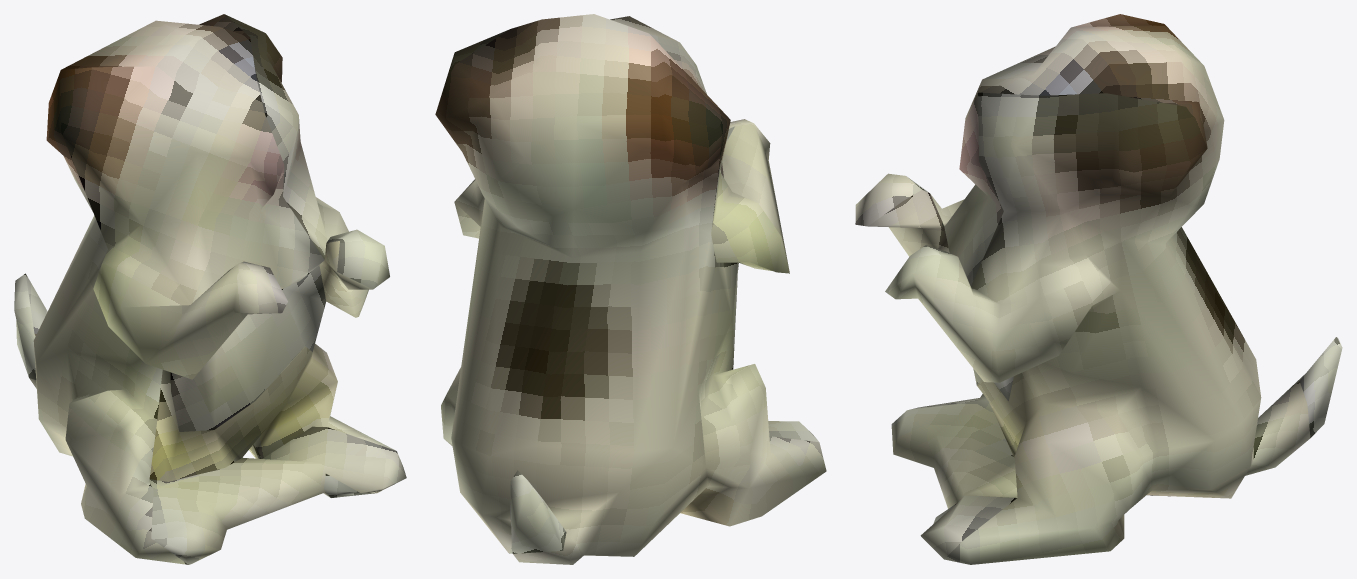
Rendered from Toysmith_Windem_Up_Flippin_Animals_Dog-low.glb.
3 views of the same model, side by side, from view 1: azimuth 30°, elevation 25°; view 2: azimuth 150°, elevation 25°; view 3: azimuth 270°, elevation 25° (orthographic). The views are drawn at different scales.
Visible parts, largest first — view 1: Toysmith_Windem_Up_Flippin_Animals_Dog; view 2: Toysmith_Windem_Up_Flippin_Animals_Dog; view 3: Toysmith_Windem_Up_Flippin_Animals_Dog.
Boxes of the visible parts, box(x1,y1,x2,y2) form: Toysmith_Windem_Up_Flippin_Animals_Dog: box(14, 14, 406, 564); Toysmith_Windem_Up_Flippin_Animals_Dog: box(435, 14, 826, 564); Toysmith_Windem_Up_Flippin_Animals_Dog: box(855, 14, 1342, 564).
Bounding box in the file's own units: 0.0344 × 0.0498 × 0.0478.
1 material, 1 textured.
